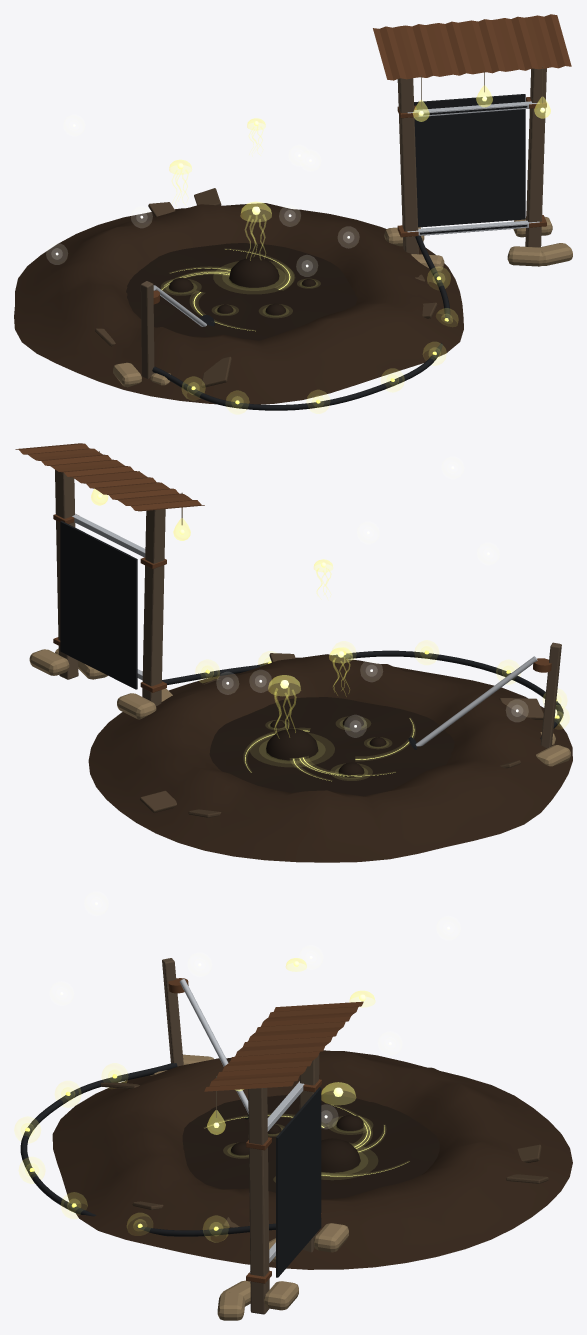
File: mudpit_burbler_rig.glb
The picture shows the model from 3 angles, top to bottom: view 1: azimuth 30°, elevation 25°; view 2: azimuth 150°, elevation 25°; view 3: azimuth 270°, elevation 25°; orthographic projection. The views are drawn at different scales.
Visible parts, largest first — view 1: Burbler_Rim, Burbler_Pool, Burbler_Backplate, Burbler_Roof, Burbler_Post+1, Burbler_Post-1, Burbler_Conduit, Burbler_Bubble_0_Dome, Burbler_Stake, Burbler_Rail0.33, Burbler_Rail1.55, Burbler_PostBag+10 (+4 smaller); view 2: Burbler_Rim, Burbler_Pool, Burbler_Backplate, Burbler_Roof, Burbler_Post-1, Burbler_Conduit, Burbler_Post+1, Burbler_Bubble_0_Dome, Burbler_Stake, Burbler_ProbeRod, Burbler_PostBag+11, Burbler_PostBag-11 (+5 smaller); view 3: Burbler_Rim, Burbler_Pool, Burbler_Roof, Burbler_Backplate, Burbler_Post+1, Burbler_Conduit, Burbler_Stake, Burbler_Bubble_0_Dome, Burbler_PostBag+11, Burbler_PostBag-11, Burbler_ProbeRod, Burbler_PostBag+12 (+2 smaller).
Part boxes in pixels (x1,y1,x2,y2): Burbler_Rim: [14, 203, 463, 404]; Burbler_Pool: [126, 243, 357, 340]; Burbler_Backplate: [414, 94, 525, 227]; Burbler_Roof: [373, 14, 571, 80]; Burbler_Post+1: [525, 68, 546, 247]; Burbler_Post-1: [397, 78, 418, 254]; Burbler_Conduit: [152, 235, 450, 410]; Burbler_Bubble_0_Dome: [228, 257, 279, 289]; Burbler_Stake: [140, 281, 154, 378]; Burbler_Rail0.33: [407, 220, 539, 235]; Burbler_Rail1.55: [407, 101, 539, 116]; Burbler_PostBag+10: [507, 246, 542, 266]; Burbler_Rim: [88, 654, 572, 862]; Burbler_Pool: [209, 697, 454, 796]; Burbler_Backplate: [60, 521, 137, 689]; Burbler_Roof: [15, 443, 204, 511]; Burbler_Post-1: [142, 509, 165, 706]; Burbler_Conduit: [162, 650, 563, 739]; Burbler_Post+1: [55, 469, 78, 679]; Burbler_Bubble_0_Dome: [265, 728, 318, 761]; Burbler_Stake: [540, 642, 561, 748]; Burbler_ProbeRod: [415, 656, 537, 746]; Burbler_PostBag+11: [29, 649, 69, 675]; Burbler_PostBag-11: [117, 693, 156, 719]; Burbler_Rim: [52, 1050, 572, 1269]; Burbler_Pool: [182, 1094, 439, 1199]; Burbler_Roof: [204, 1001, 363, 1091]; Burbler_Backplate: [276, 1087, 321, 1277]; Burbler_Post+1: [248, 1088, 269, 1314]; Burbler_Conduit: [20, 1063, 275, 1236]; Burbler_Stake: [162, 958, 183, 1066]; Burbler_Bubble_0_Dome: [321, 1138, 360, 1174]; Burbler_PostBag+11: [264, 1281, 298, 1310]; Burbler_PostBag-11: [314, 1223, 348, 1252]; Burbler_ProbeRod: [179, 979, 248, 1113]; Burbler_PostBag+12: [217, 1292, 245, 1320].
Bounding box in the file's own units: 5.53 × 2.43 × 4.65.
